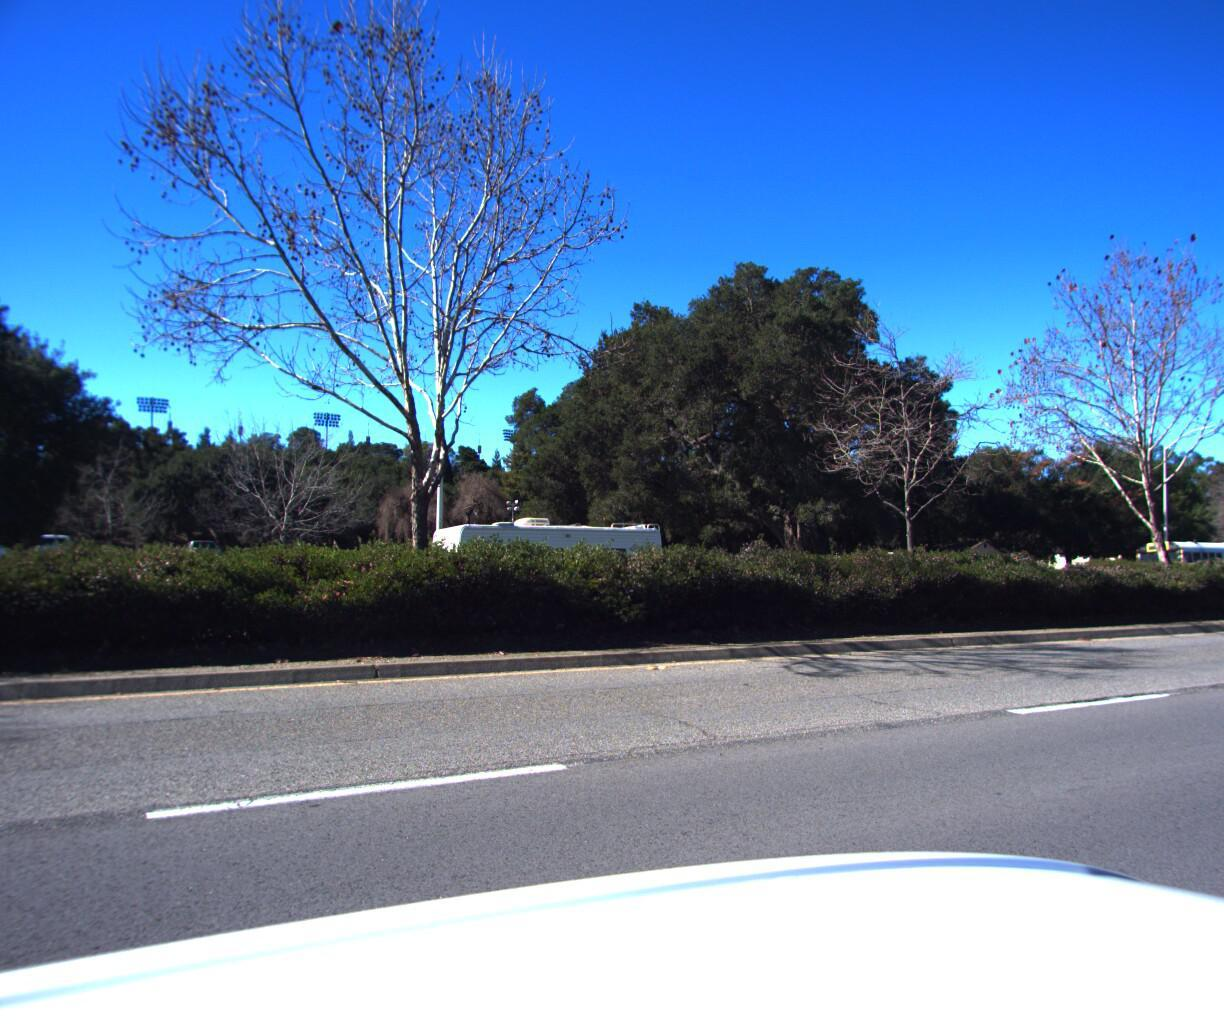bus: (1116, 532, 1224, 585)
other_vehicle: (422, 505, 681, 590)
